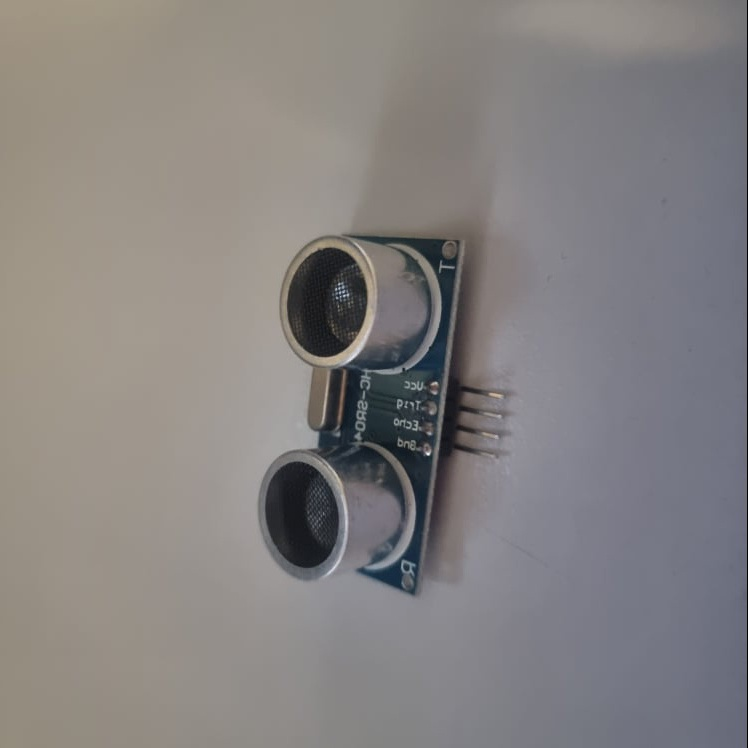SENSOR: (259, 235, 503, 602)
